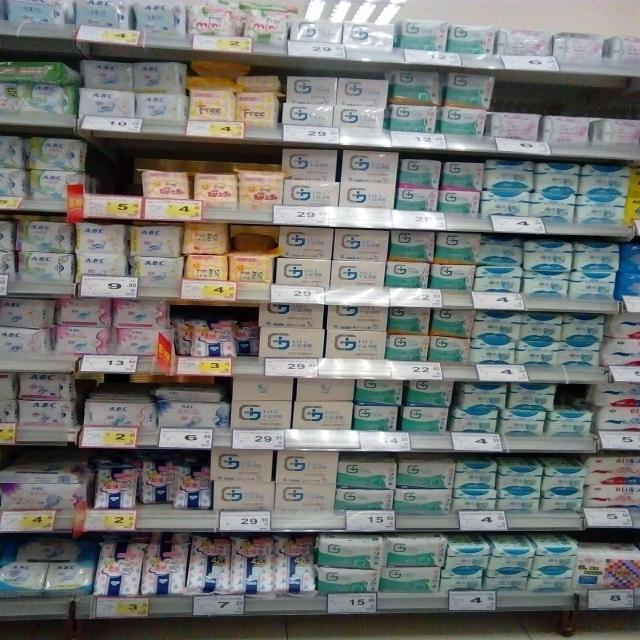empty_space: (513, 81, 632, 109), (93, 148, 136, 193)
